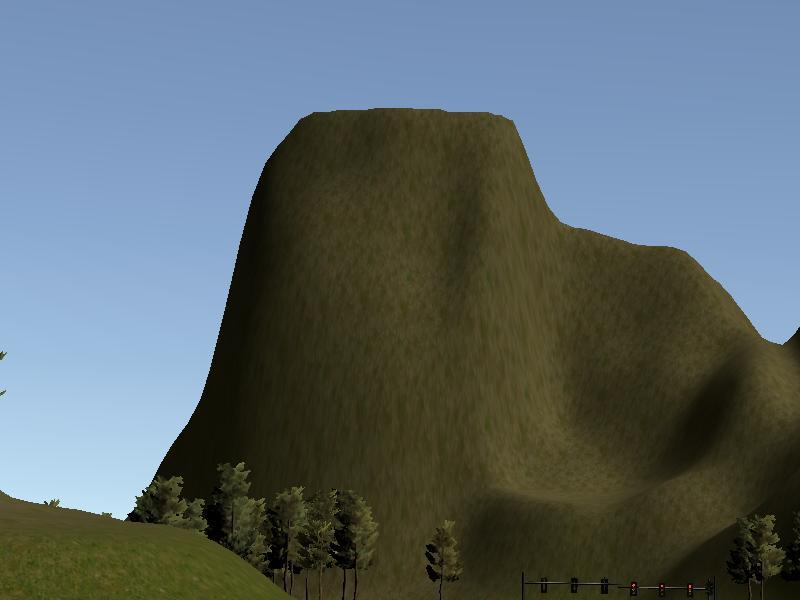Red: (684, 581, 694, 599), (629, 580, 638, 598), (657, 581, 666, 599)
